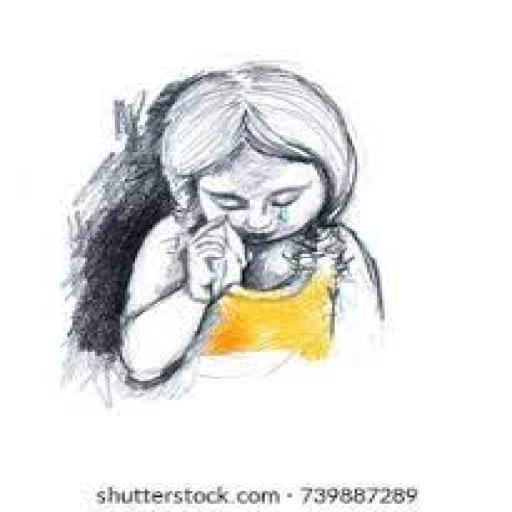person: (55, 52, 393, 401)
